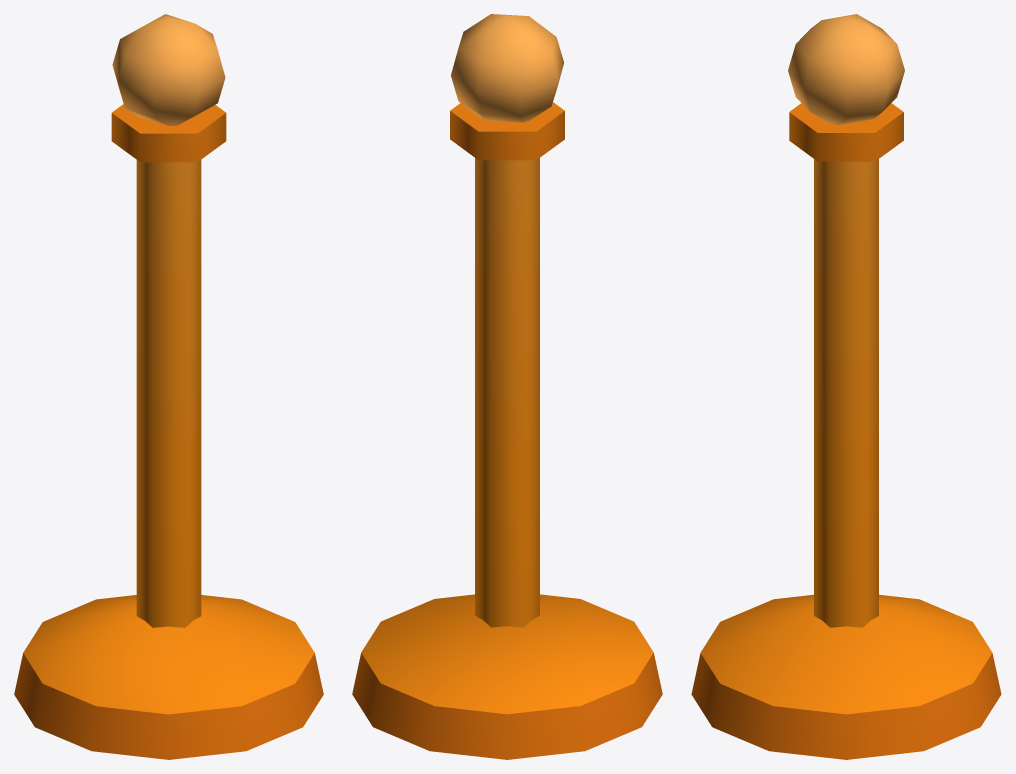
The model's file is Fence_07.glb.
3 renders of one model, left to right at view 1: azimuth 30°, elevation 25°; view 2: azimuth 150°, elevation 25°; view 3: azimuth 270°, elevation 25°, orthographic.
Visible parts, largest first — view 1: Fence_07; view 2: Fence_07; view 3: Fence_07.
Boxes of the visible parts, x1,y1,x2,y2 form: Fence_07: [14, 14, 323, 759]; Fence_07: [352, 14, 662, 759]; Fence_07: [691, 14, 1001, 759].
Bounding box in the file's own units: 0.4254 × 1.02 × 0.4254.
1 material, 1 textured.
